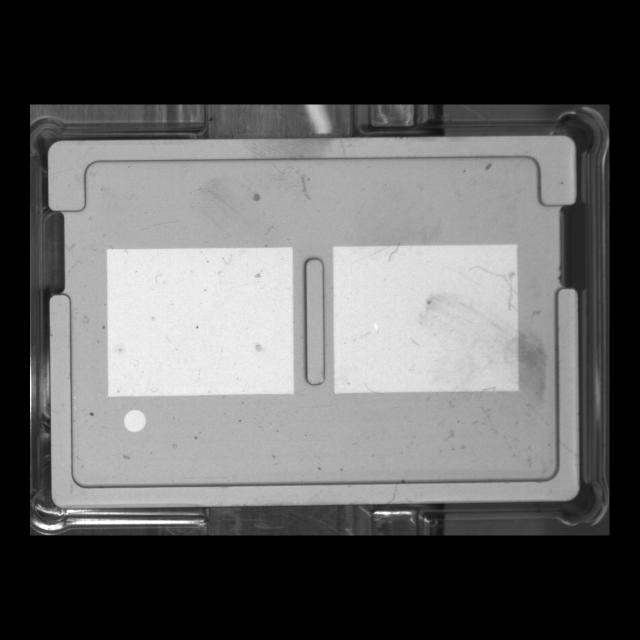door: (38, 129, 587, 221)
point: (114, 401, 154, 442)
